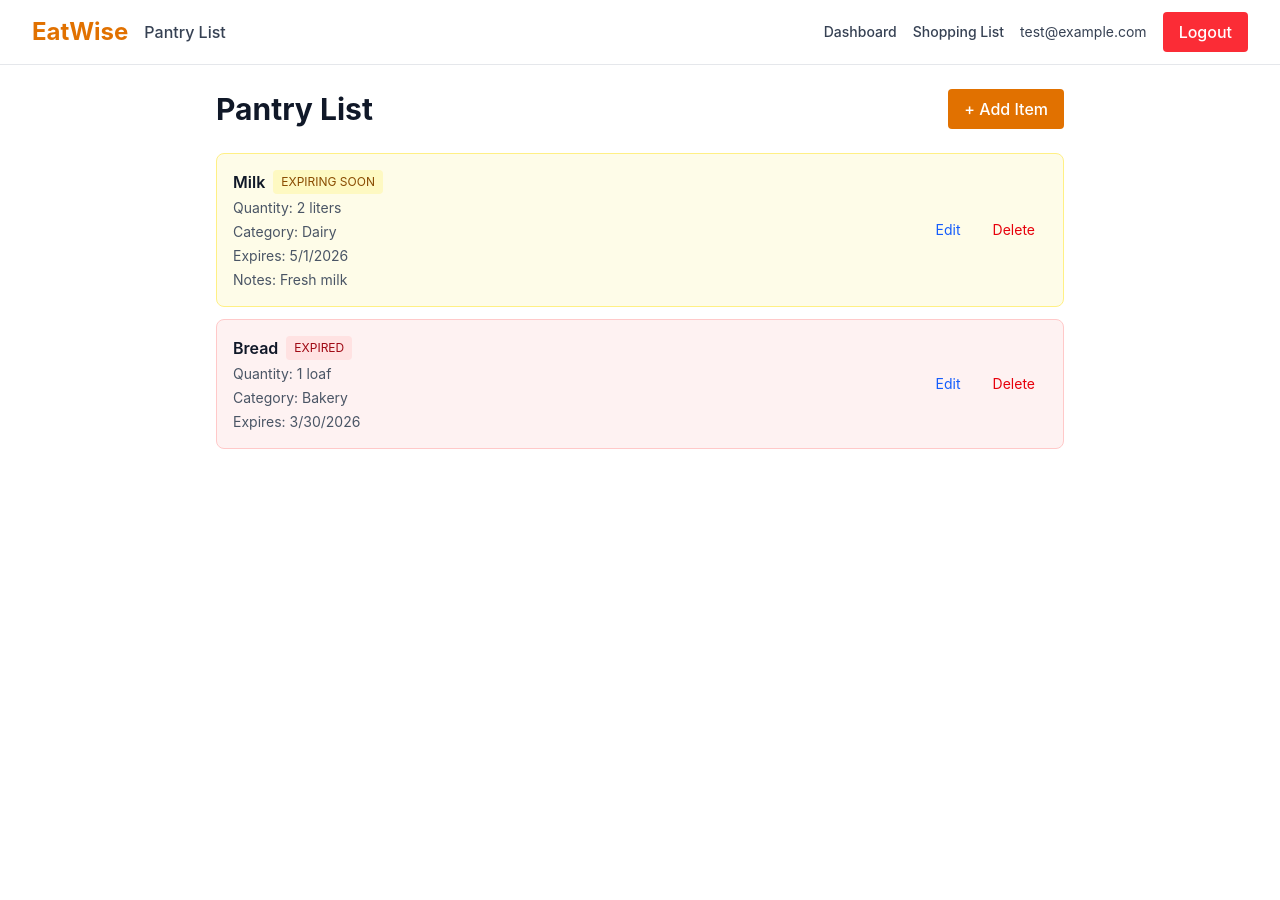
Scenario: PantryList › should show edit form when edit button is clicked
Click the button "Edit" in the row of "Dairy".
click(948, 230)  # box [924,216,973,244]
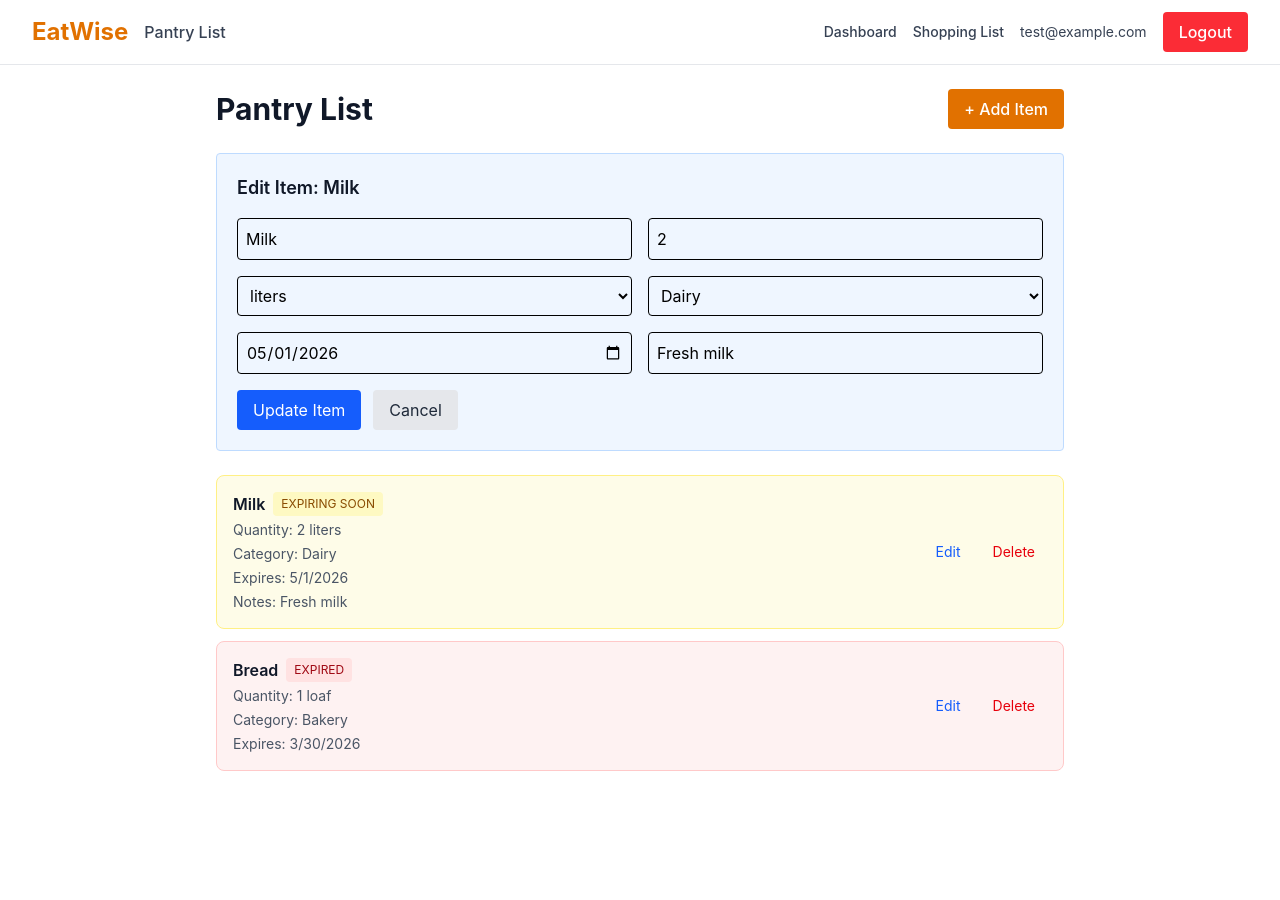
Check: the heading "Edit Item: Milk" is shown, box [237,177,360,198]
Check: the 1st field showing "Milk" is shown, box [237,218,632,260]
